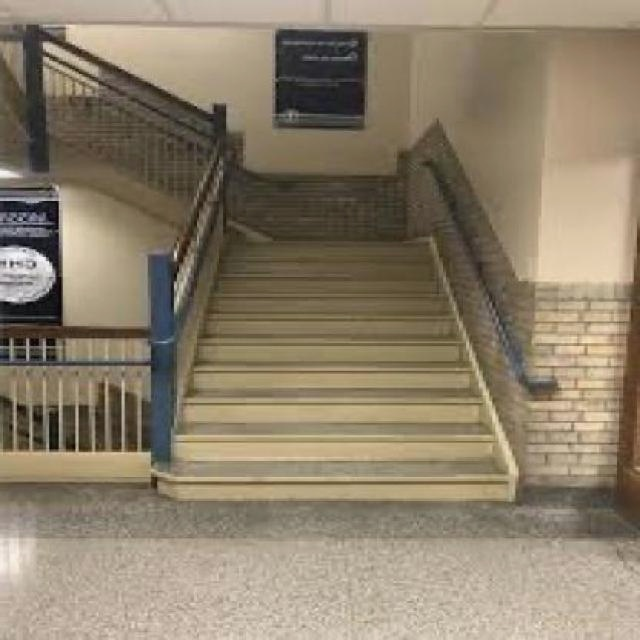stair: (208, 255, 522, 495)
